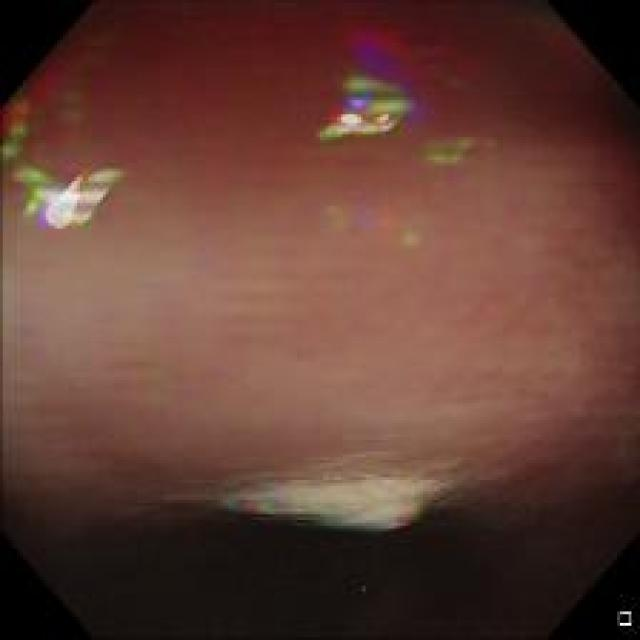color misalignment: (5, 109, 124, 245), (319, 42, 431, 150), (209, 495, 422, 536), (325, 185, 431, 255), (406, 124, 505, 178)
contrast: (25, 484, 552, 634)
specularity: (50, 184, 78, 221), (341, 111, 359, 121)
